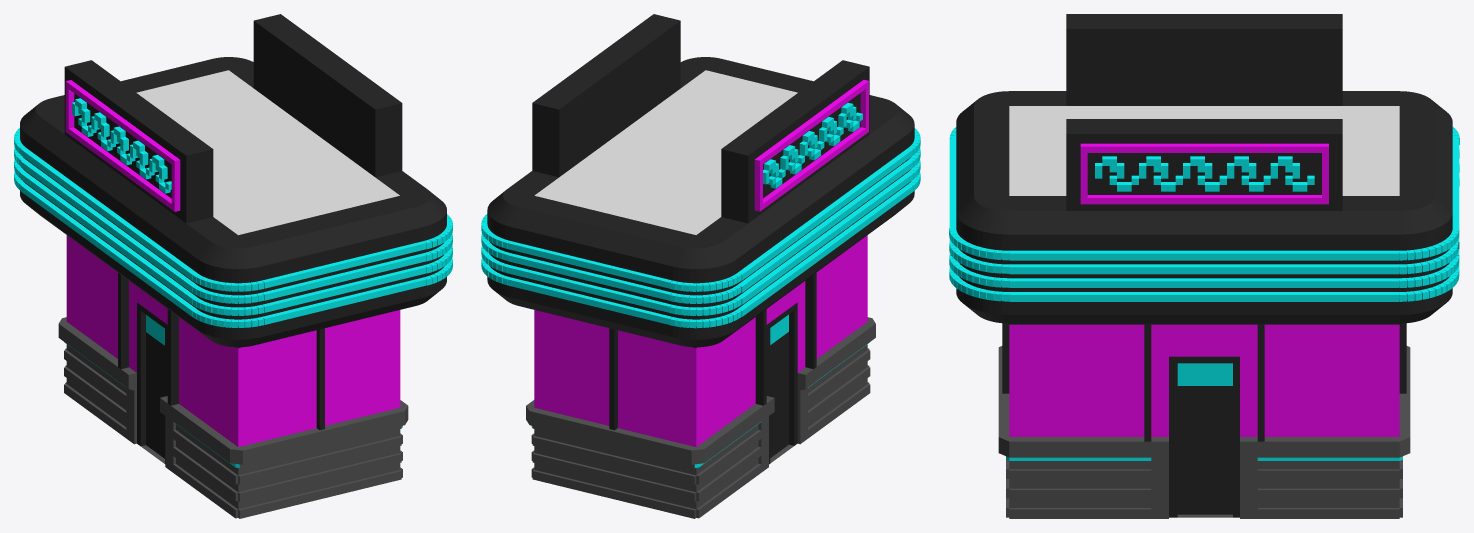
Rendered from Edificio 12.fbx.
3 renders of one model, left to right at view 1: azimuth 30°, elevation 25°; view 2: azimuth 150°, elevation 25°; view 3: azimuth 270°, elevation 25°, orthographic. The views are drawn at different scales.
Parts seen in each view (by area): view 1: Pared 2 [10020], Pared 1 [10017], [10046], Pared 2 [10023], Esquina [10026], Esquina [10029], Pared 1 [10014], Esquina [10035]; view 2: Pared 2 [10020], Pared 1 [10014], [10046], Pared 2 [10023], Esquina [10035], Esquina [10032], Pared 1 [10017], Esquina [10026]; view 3: Pared 2 [10023], Pared 2 [10020], [10046], Pared 1 [10014], Pared 1 [10017], Esquina [10029], Esquina [10032], Esquina [10035], Esquina [10026].
Boxes of the visible parts, x1,y1,x2,y2 form: Pared 2 [10020]: (20,60,238,518); Pared 1 [10017]: (238,196,426,518); [10046]: (136,70,399,235); Pared 2 [10023]: (229,14,426,477); Esquina [10026]: (192,235,263,467); Esquina [10029]: (400,189,452,428); Pared 1 [10014]: (51,59,228,383); Esquina [10035]: (14,98,66,323); Pared 2 [10020]: (696,60,913,518); Pared 1 [10014]: (508,195,696,518); [10046]: (534,70,797,234); Pared 2 [10023]: (507,14,705,477); Esquina [10035]: (670,235,741,467); Esquina [10032]: (481,189,533,427); Pared 1 [10017]: (706,59,882,383); Esquina [10026]: (868,98,920,323); Pared 2 [10023]: (1009,119,1399,518); Pared 2 [10020]: (1009,14,1399,105); [10046]: (1009,106,1399,195); Pared 1 [10014]: (1399,106,1459,517); Pared 1 [10017]: (949,106,1009,517); Esquina [10029]: (949,196,1009,460); Esquina [10032]: (1399,196,1459,460); Esquina [10035]: (1399,91,1459,347); Esquina [10026]: (949,91,1009,347).
Size of the model in its own units: 370 by 567 by 488.
